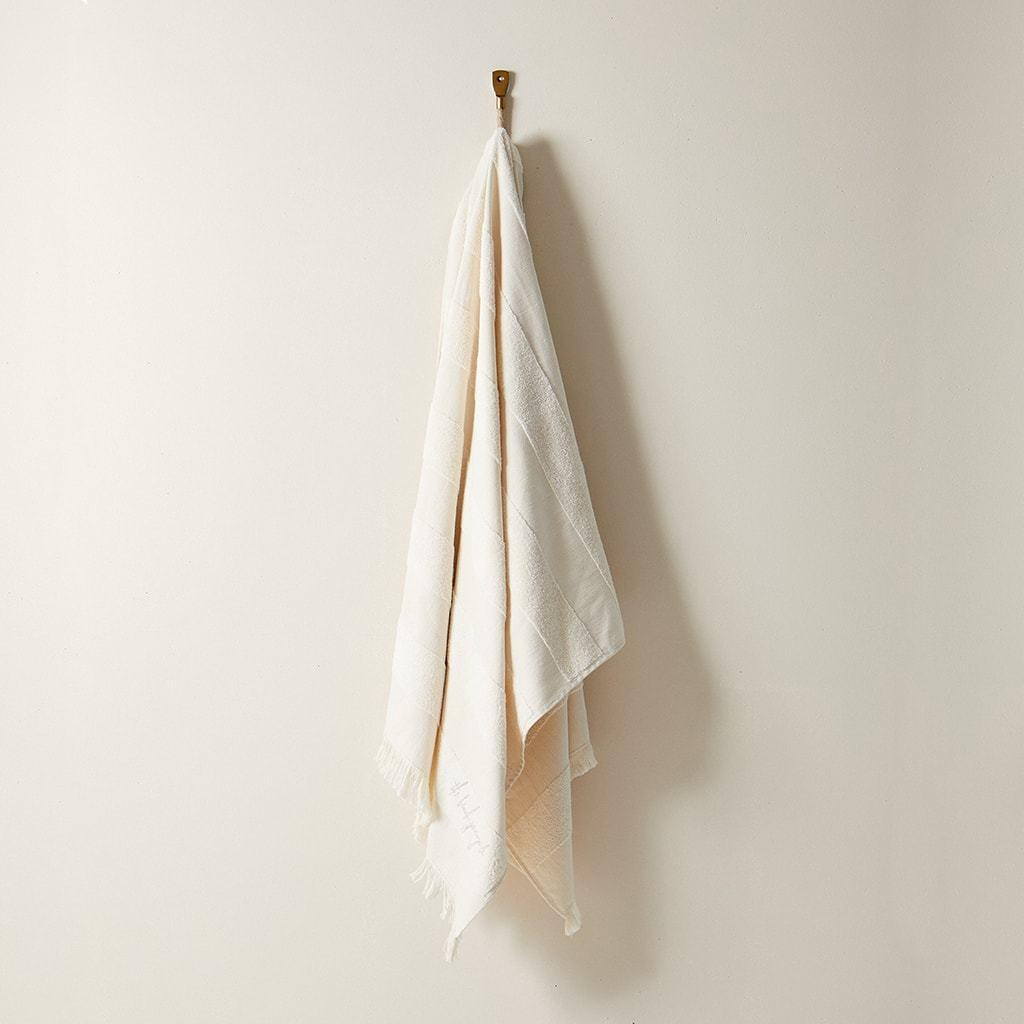Towel: (335, 70, 658, 975)
